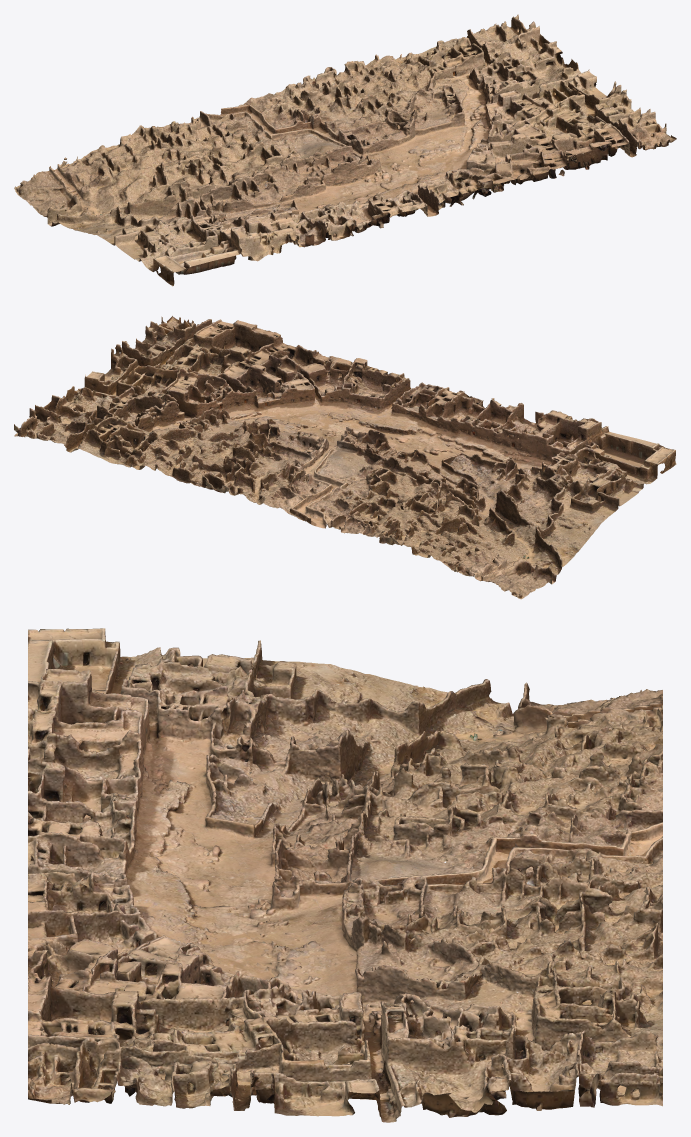
3 renders of one model, top to bottom at view 1: azimuth 30°, elevation 25°; view 2: azimuth 150°, elevation 25°; view 3: azimuth 270°, elevation 25°, orthographic. The views are drawn at different scales.
Parts seen in each view (by area): view 1: MRT_001_M6_Place2; view 2: MRT_001_M6_Place2; view 3: MRT_001_M6_Place2.
Boxes of the visible parts, box(x1,y1,x2,y2) form: MRT_001_M6_Place2: box(14, 14, 676, 286); MRT_001_M6_Place2: box(14, 316, 676, 599); MRT_001_M6_Place2: box(28, 628, 662, 1122).
Size of the model in its own units: 149 by 18.91 by 81.
1 material, 1 textured.
